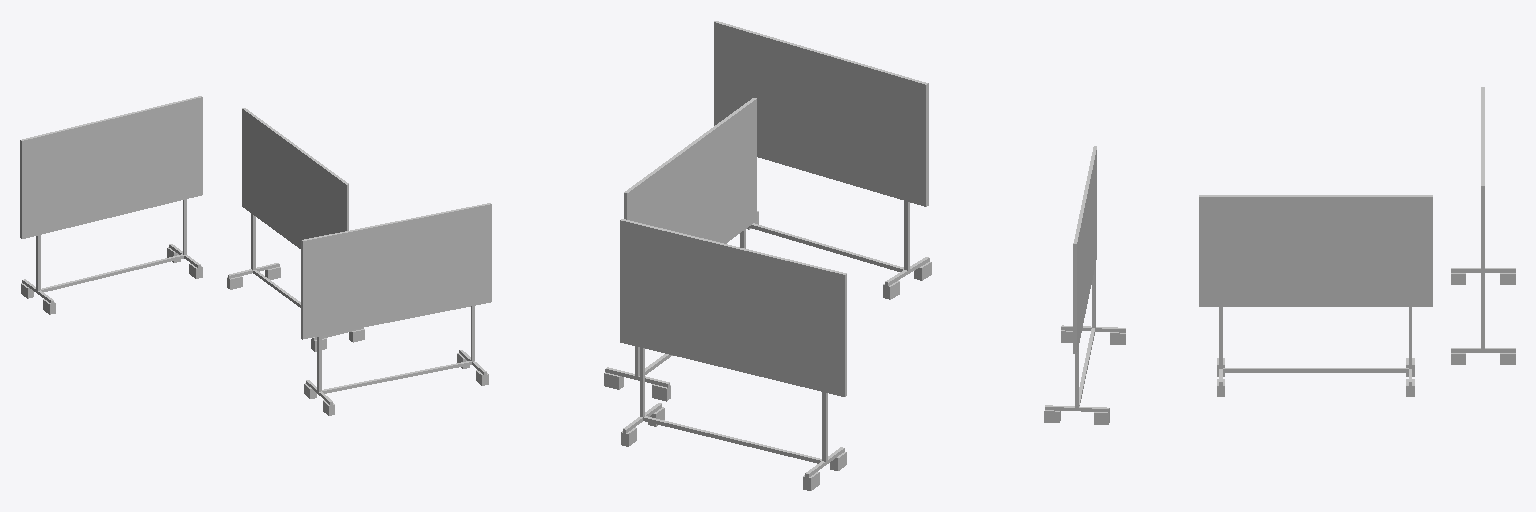
URDF robot description (Whiteboard_Collision):
<?xml version="1.0" encoding="utf-8"?>
<!-- This URDF was automatically created by SolidWorks to URDF Exporter! Originally created by [author] ([email redacted]) 
     Commit Version: 1.5.1-0-g916b5db  Build Version: 1.5.7152.31018
     For more information, please see http://wiki.ros.org/sw_urdf_exporter -->
<robot
  name="Whiteboard_Collision">
  <link
    name="base_link">
    <inertial>
      <origin
        xyz="4.16725433229364 -6.65706856351558 1.33327715340142"
        rpy="0 0 0" />
      <mass
        value="0.503293951709995" />
      <inertia
        ixx="0.264719956104737"
        ixy="0.00836322520175472"
        ixz="-5.0530335703002E-16"
        iyy="0.359580370184902"
        iyz="-1.63754833074024E-17"
        izz="0.293913969789911" />
    </inertial>
    <visual>
      <origin
        xyz="0 0 0"
        rpy="0 0 0" />
      <geometry>
        <mesh
          filename="package://Whiteboard_Collision/meshes/base_link.STL" />
      </geometry>
      <material
        name="">
        <color
          rgba="0.843137254901961 0.843137254901961 0.843137254901961 0.1" />
      </material>
    </visual>
    <collision>
      <origin
        xyz="0 0 0"
        rpy="0 0 0" />
      <geometry>
        <mesh
          filename="package://Whiteboard_Collision/meshes/base_link.STL" />
      </geometry>
    </collision>
  </link>
</robot>

--- What the picture shows (computed from the rendered views, not written in the file) ---
3 views of the same robot in one strip: view 1: azimuth 30°, elevation 25°; view 2: azimuth 150°, elevation 25°; view 3: azimuth 270°, elevation 25° (orthographic).
Model Whiteboard_Collision with 1 links and 0 joints (none), rooted at base_link, posed every joint at zero.
Visible links, largest first — view 1: base_link; view 2: base_link; view 3: base_link.
Link boxes in pixels (box(x1,y1,x2,y2)): base_link: box(20, 96, 491, 415); base_link: box(604, 21, 931, 490); base_link: box(1044, 87, 1515, 424).
Size in the robot's own frame: 4.05 by 5.12 by 2.25 metres.
1 mesh visuals loaded from 1 distinct referenced files (1 binary STL).